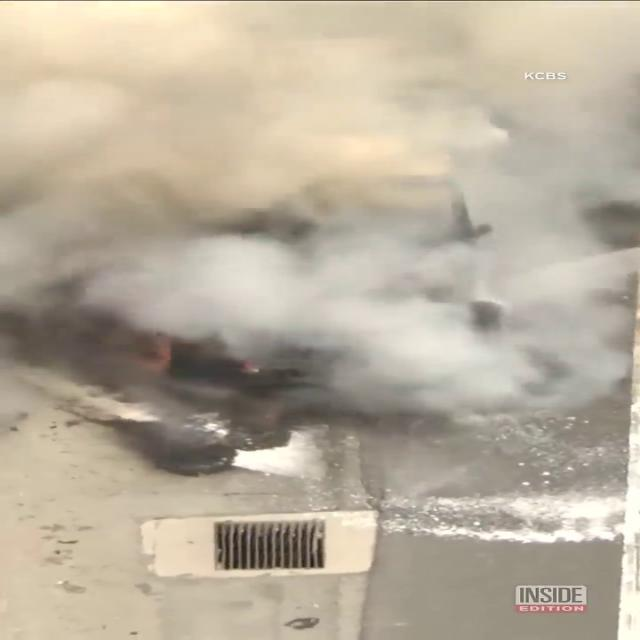Smoke: (0, 2, 637, 398)
